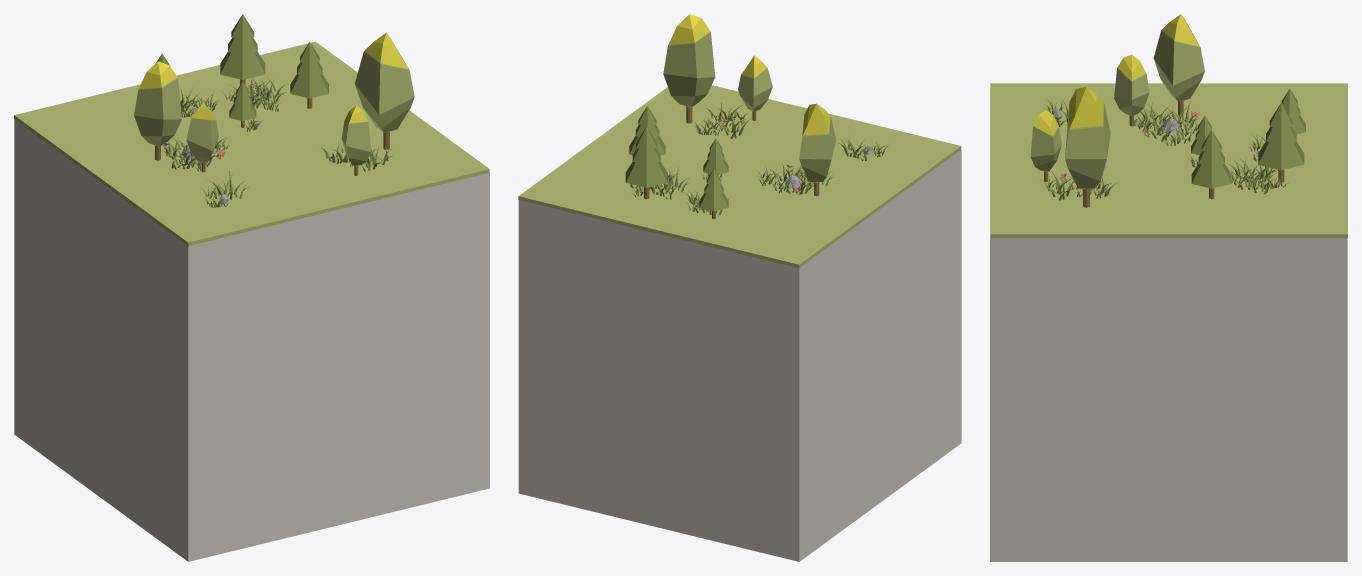
File: GrassLand1.fbx
The picture shows the model from 3 angles, left to right: view 1: azimuth 30°, elevation 25°; view 2: azimuth 150°, elevation 25°; view 3: azimuth 270°, elevation 25°; orthographic projection. The views are drawn at different scales.
Visible parts, largest first — view 1: gras_1; view 2: gras_1; view 3: gras_1.
Part boxes in pixels (bbox=[...]): gras_1: bbox=[14, 14, 489, 561]; gras_1: bbox=[518, 14, 961, 561]; gras_1: bbox=[990, 14, 1347, 561].
Bounding box in the file's own units: 12 × 16.56 × 12.02.
